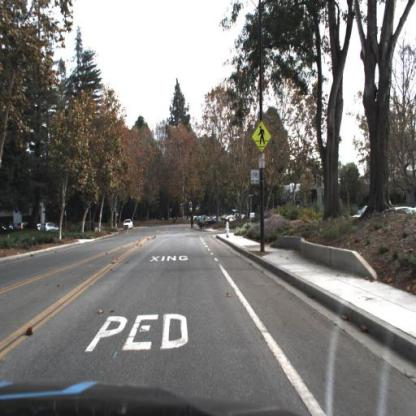biker: (199, 217, 206, 233)
car: (37, 220, 64, 236), (121, 218, 135, 232)
pedestrian: (191, 213, 195, 230)
